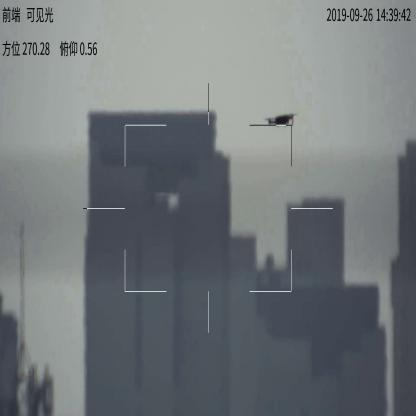uav: (261, 113, 300, 132)
